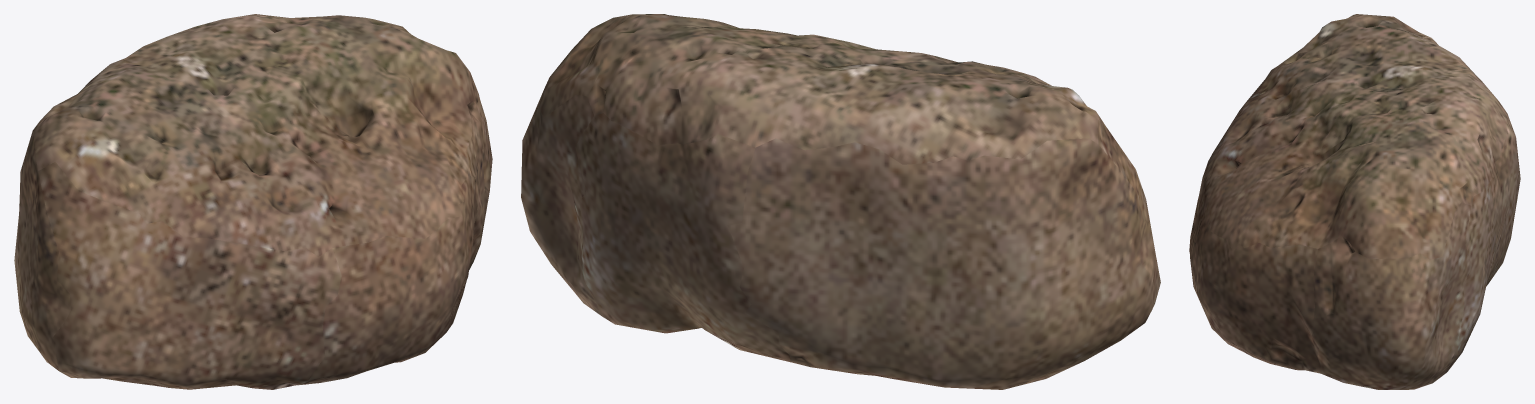
Rendered from SM_For_Sca_Rock_Set_01_A.gltf.
3 views of the same model, side by side, from view 1: azimuth 30°, elevation 25°; view 2: azimuth 150°, elevation 25°; view 3: azimuth 270°, elevation 25° (orthographic). The views are drawn at different scales.
Visible parts, largest first — view 1: SM_For_Sca_Rock_Set_01_A; view 2: SM_For_Sca_Rock_Set_01_A; view 3: SM_For_Sca_Rock_Set_01_A.
Boxes of the visible parts, x1,y1,x2,y2 form: SM_For_Sca_Rock_Set_01_A: (14, 14, 492, 389); SM_For_Sca_Rock_Set_01_A: (521, 14, 1160, 389); SM_For_Sca_Rock_Set_01_A: (1189, 14, 1520, 389).
Size of the model in its own units: 0.1357 by 0.0693 by 0.0903.
1 material, 1 textured.
